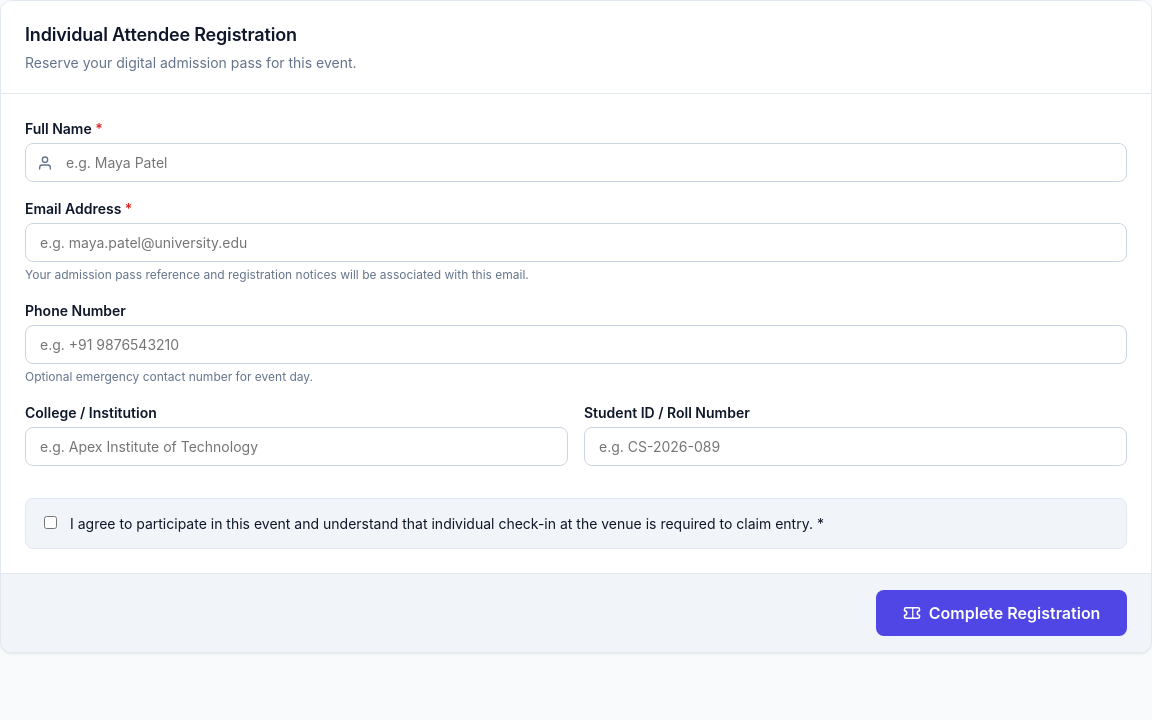
Test: Public Event Registration Components › IndividualRegForm Component › validates required fields before submitting
Step 1. Click the button "Complete Registration" → (1002, 613), box [876,590,1127,636]
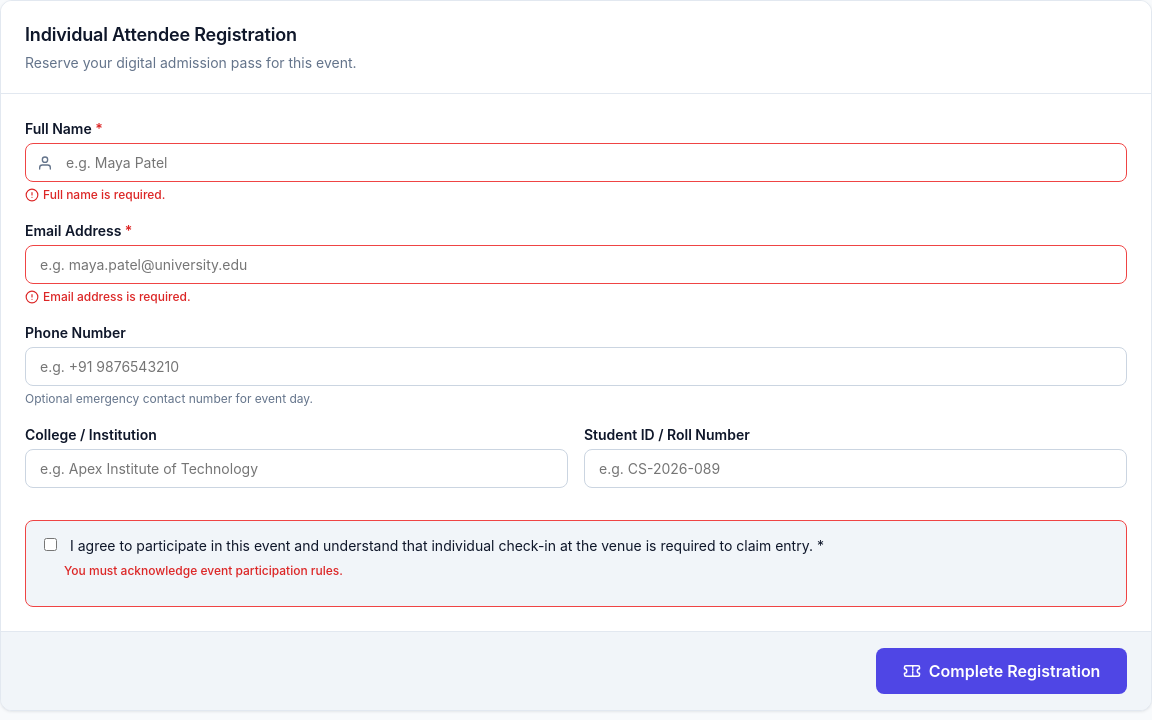
Expected: the text "Full name is required." is shown, [43,186,165,204]
Expected: the text "Email address is required." is shown, [43,288,190,306]
Expected: the text "You must acknowledge event participation rules." is shown, [64,563,343,578]
